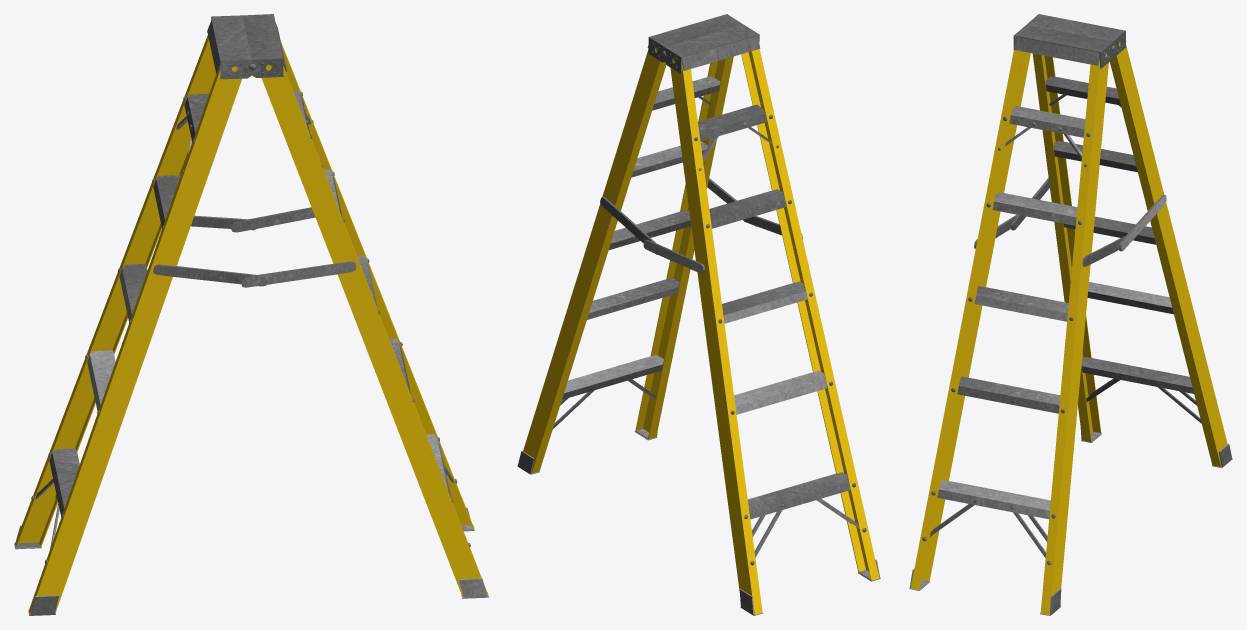
Rendered from ladder2.obj.
The picture shows the model from 3 angles, left to right: view 1: azimuth 30°, elevation 25°; view 2: azimuth 150°, elevation 25°; view 3: azimuth 270°, elevation 25°; orthographic projection. The views are drawn at different scales.
Visible parts, largest first — view 1: Adds; view 2: Adds; view 3: Adds.
Boxes of the visible parts, <box> form: Adds: <box>14,14,488,615</box>; Adds: <box>517,14,880,615</box>; Adds: <box>909,14,1232,615</box>.
Size of the model in its own units: 1.5 by 1.83 by 1.09.
1 material, 1 textured.
